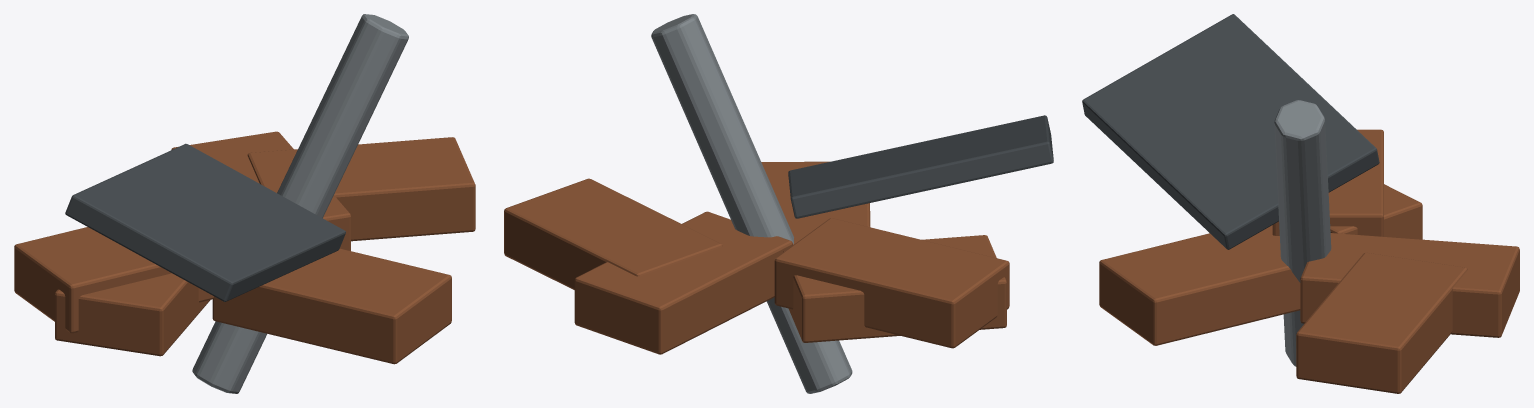
Rendered from scrap_pile.glb.
3 renders of one model, left to right at view 1: azimuth 30°, elevation 25°; view 2: azimuth 150°, elevation 25°; view 3: azimuth 270°, elevation 25°, orthographic. The views are drawn at different scales.
Visible parts, largest first — view 1: scrap_pile; view 2: scrap_pile; view 3: scrap_pile.
Part boxes in pixels (x1=…): scrap_pile: x1=14, y1=14, x2=475, y2=393; scrap_pile: x1=504, y1=14, x2=1053, y2=393; scrap_pile: x1=1082, y1=14, x2=1519, y2=393.
Bounding box in the file's own units: 1.42 × 0.9798 × 1.18.
